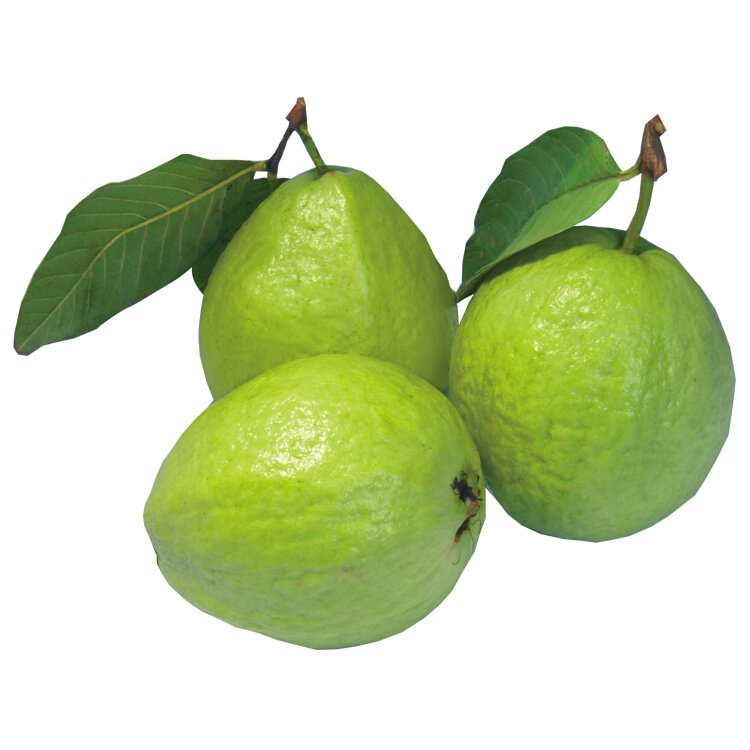guava: (446, 187, 735, 544), (136, 354, 485, 648), (185, 163, 463, 439)
